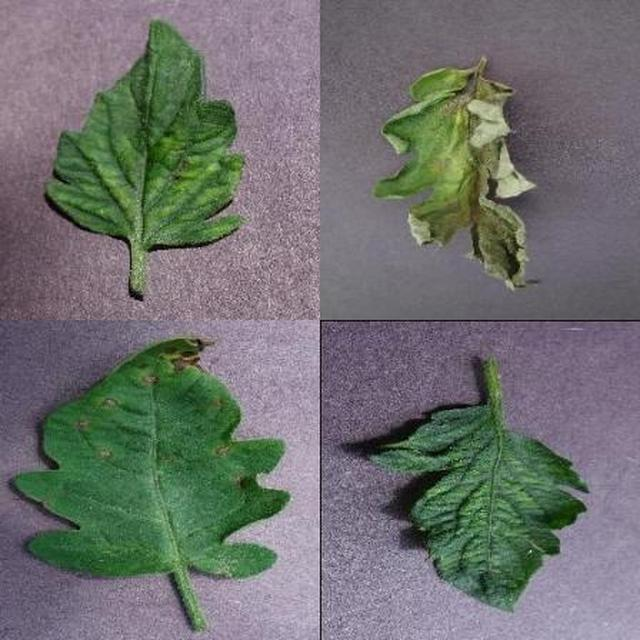Mosaic Virus Leaf: (207, 189, 640, 640)
